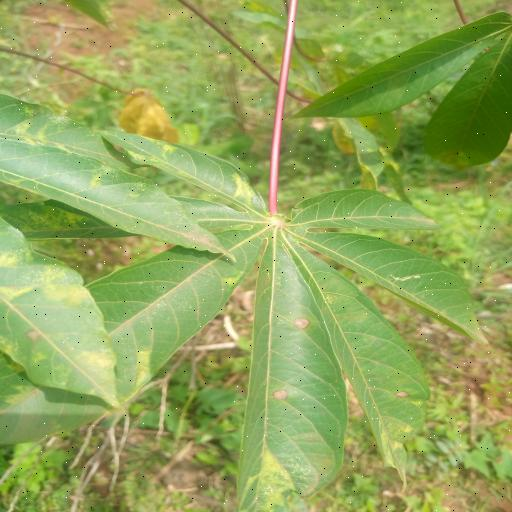Cassava_Mosaic: (0, 118, 512, 512)
